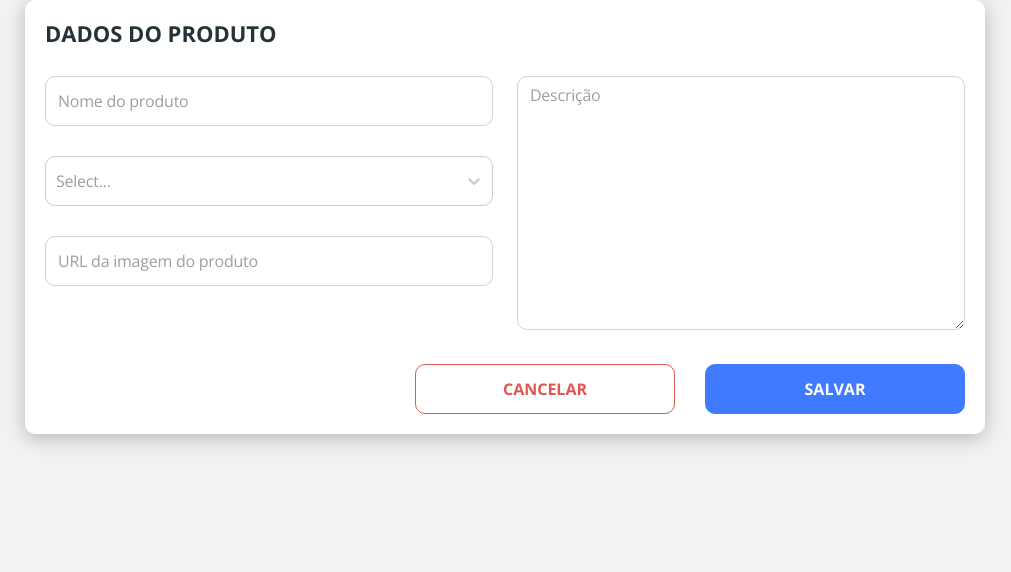
Product form create tests › Should show five error messages when submiting empty form
The width and height of the screenshot is (1011, 572).
Click the button "SALVAR".
click(835, 389)  # box [705, 364, 965, 414]
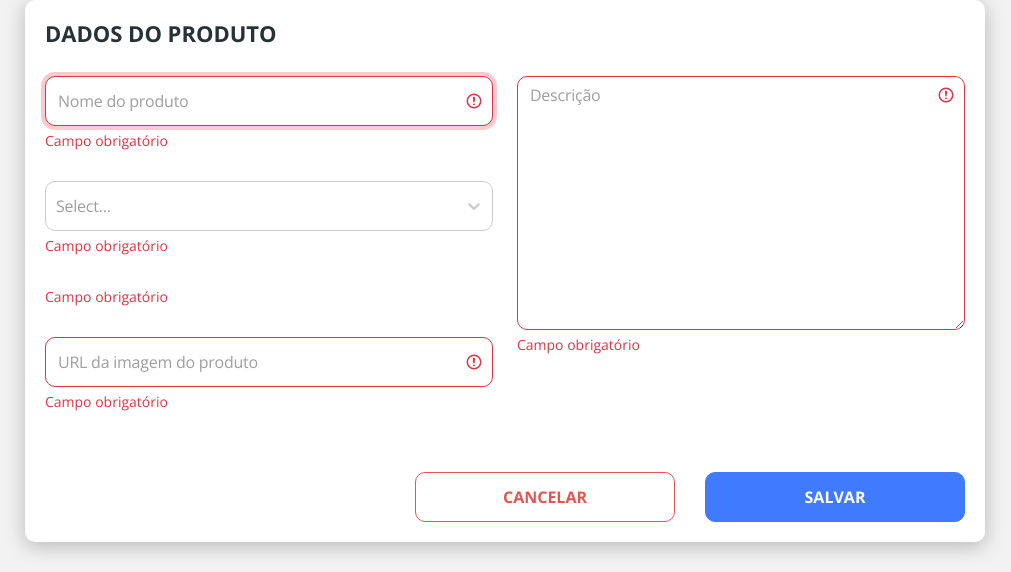
Expected: the text "Campo obrigatório" is shown 5 times, [45, 131, 168, 150]; [45, 236, 168, 255]; [45, 287, 168, 306]; [45, 392, 168, 411]; [517, 335, 640, 354]
